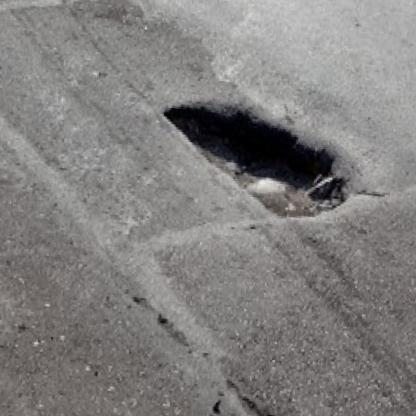pothole: (152, 95, 357, 234)
